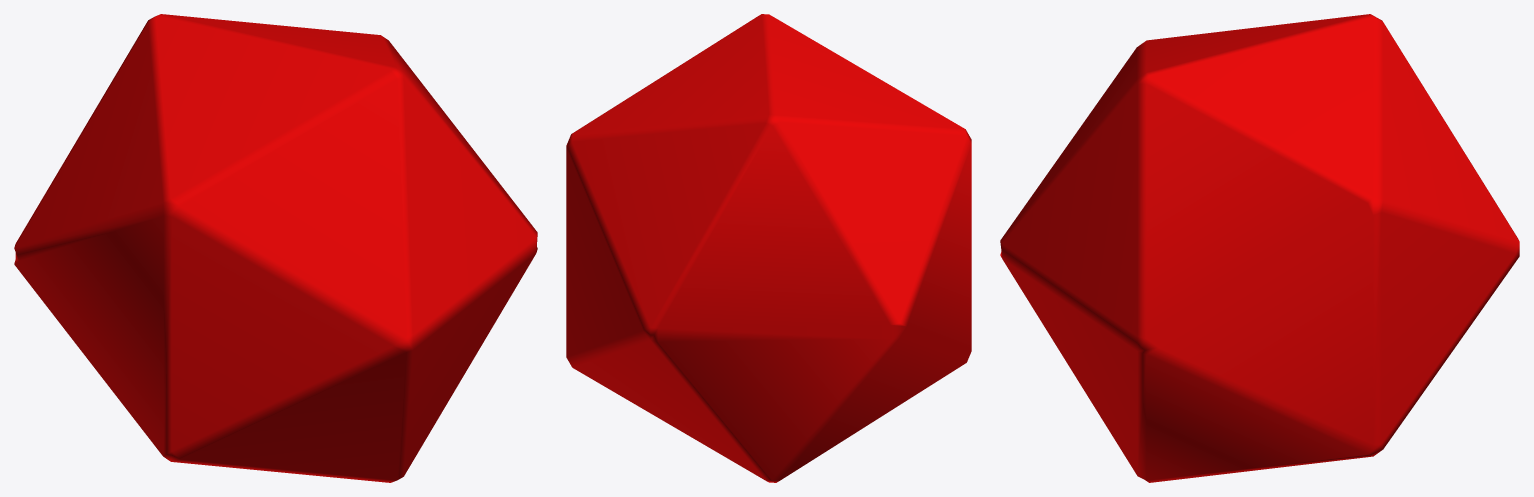
The model's file is RubyGem.fbx.
3 views of the same model, side by side, from view 1: azimuth 30°, elevation 25°; view 2: azimuth 150°, elevation 25°; view 3: azimuth 270°, elevation 25° (orthographic). The views are drawn at different scales.
Visible parts, largest first — view 1: RubyGem1; view 2: RubyGem1; view 3: RubyGem1.
Part boxes in pixels (left/top/right/bottom): RubyGem1: left=14, top=14, right=537, bottom=482; RubyGem1: left=566, top=14, right=971, bottom=482; RubyGem1: left=1000, top=14, right=1519, bottom=482.
Bounding box in the file's own units: 88.16 × 84.48 × 97.69.
